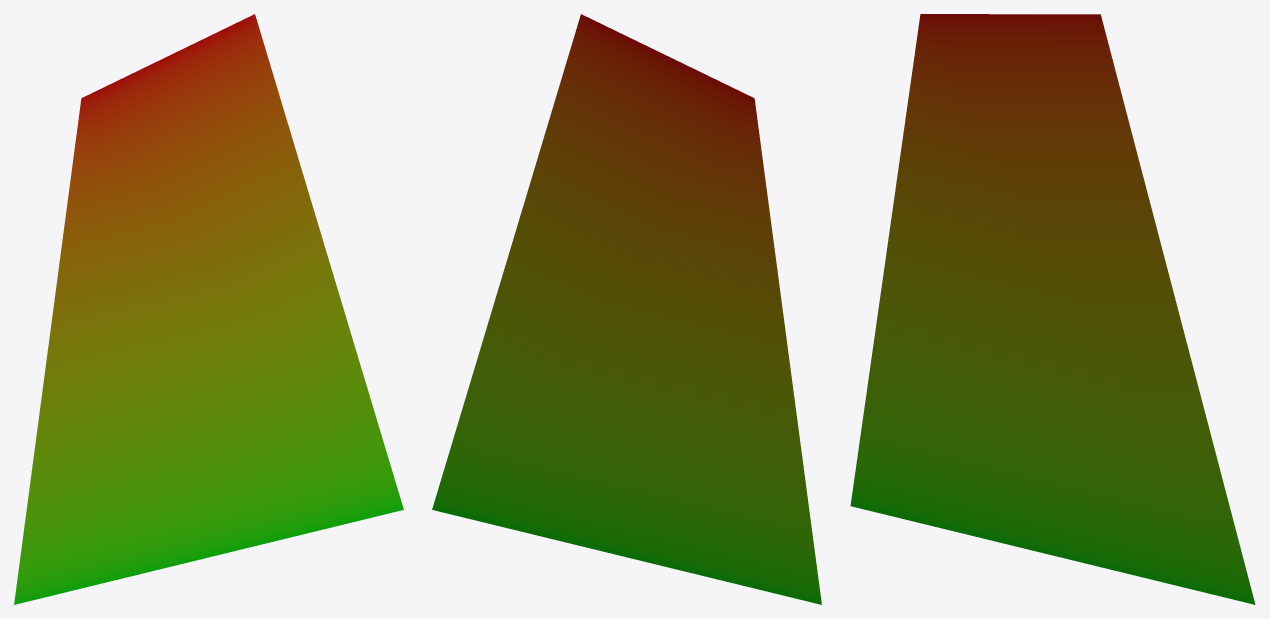
The model's file is Blackberry_LOD4_Var6_vkmofctha.fbx.
The picture shows the model from 3 angles, left to right: view 1: azimuth 30°, elevation 25°; view 2: azimuth 150°, elevation 25°; view 3: azimuth 330°, elevation 25°; orthographic projection. The views are drawn at different scales.
Parts seen in each view (by area): view 1: _cdnz_Var6_LOD4; view 2: _cdnz_Var6_LOD4; view 3: _cdnz_Var6_LOD4.
Part boxes in pixels (bbox=[...]): _cdnz_Var6_LOD4: bbox=[14, 14, 403, 604]; _cdnz_Var6_LOD4: bbox=[432, 14, 821, 604]; _cdnz_Var6_LOD4: bbox=[850, 14, 1255, 604].
Bounding box in the file's own units: 37.44 × 48.83 × 1.09e-05.
